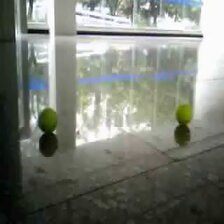tennis: (38, 108, 57, 131), (175, 104, 192, 123)
